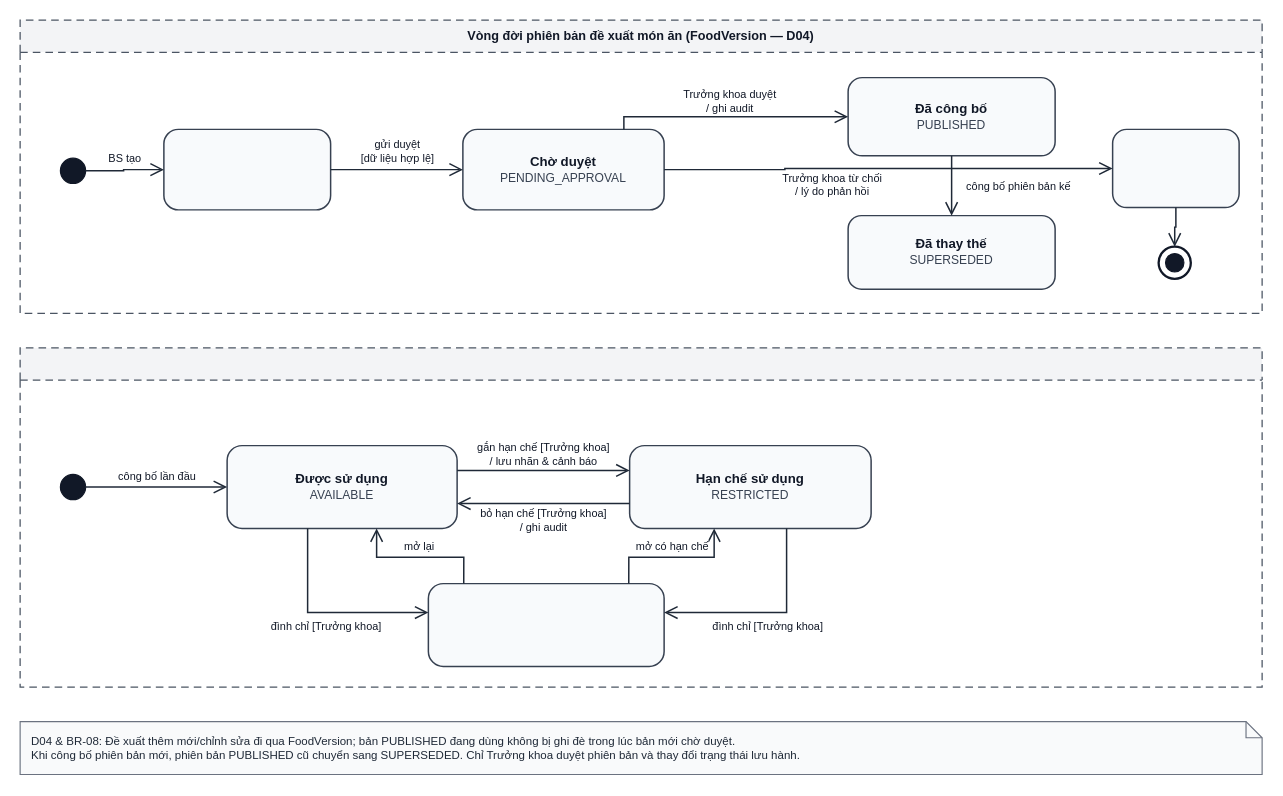
Some shapes in this 1283 by 796 pixel diagram are drawn without their labels. The shapes that lost their labels are listed below. From the top down, each one's box as (x1, y1, x2, y2) in pixels, then its label:
(163, 128, 331, 210): Nháp đề xuất DRAFT
(1111, 128, 1239, 208): Từ chối REJECTED
(19, 347, 1262, 687): Trạng thái lưu hành y tế của món ăn (Food — BR-08)
(427, 582, 664, 667): Đình chỉ sử dụng SUSPENDED
